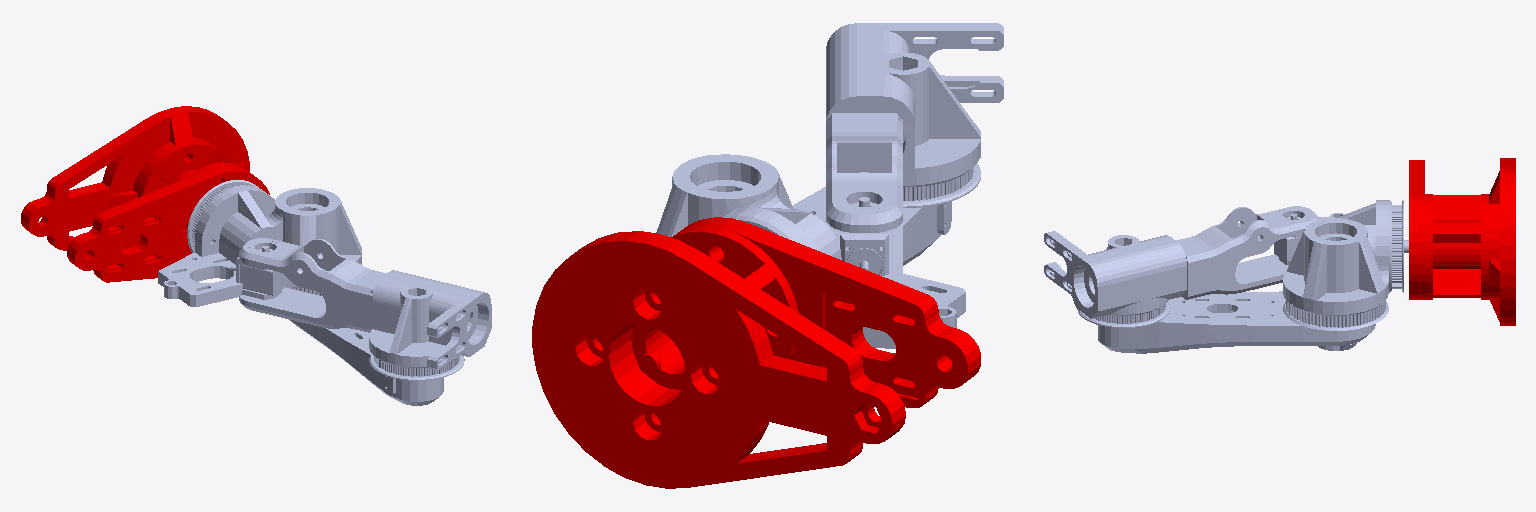
URDF robot description (Final_edited_dont_edit.SLDASM):
<?xml version="1.0" encoding="utf-8"?>
<!-- This URDF was automatically created by SolidWorks to URDF Exporter! Originally created by [author] ([email redacted]) 
     Commit Version: 1.6.0-4-g7f85cfe  Build Version: 1.6.7995.38578
     For more information, please see http://wiki.ros.org/sw_urdf_exporter -->
<robot
  name="Final_edited_dont_edit.SLDASM">
  <link
    name="base_link">
    <inertial>
      <origin
        xyz="0.12761 0.015439 0.043377"
        rpy="0 0 0" />
      <mass
        value="0.37275" />
      <inertia
        ixx="0.00026288"
        ixy="-2.4103E-18"
        ixz="-4.2095E-06"
        iyy="0.0005837"
        iyz="6.4293E-19"
        izz="0.00078149" />
    </inertial>
    <visual>
      <origin
        xyz="0 0 0"
        rpy="0 0 0" />
      <geometry>
        <mesh
          filename="package://Final_edited_dont_edit.SLDASM/meshes/base_link.STL" />
      </geometry>
      <material
        name="">
        <color
          rgba="1 0 0 1" />
      </material>
    </visual>
    <collision>
      <origin
        xyz="0 0 0"
        rpy="0 0 0" />
      <geometry>
        <mesh
          filename="package://Final_edited_dont_edit.SLDASM/meshes/base_link.STL" />
      </geometry>
    </collision>
  </link>
  <link
    name="Link_01">
    <inertial>
      <origin
        xyz="0.00685418798200579 -0.0425536743667052 -0.0109874534741449"
        rpy="0 0 0" />
      <mass
        value="0.235173921605943" />
      <inertia
        ixx="0.000231425952769825"
        ixy="1.12434517306131E-05"
        ixz="9.23442473202213E-05"
        iyy="0.000282260215783849"
        iyz="-2.85969572843724E-05"
        izz="0.000212263544492399" />
    </inertial>
    <visual>
      <origin
        xyz="0 0 0"
        rpy="0 0 0" />
      <geometry>
        <mesh
          filename="package://Final_edited_dont_edit.SLDASM/meshes/Link_01.STL" />
      </geometry>
      <material
        name="">
        <color
          rgba="0.792156862745098 0.819607843137255 0.933333333333333 1" />
      </material>
    </visual>
    <collision>
      <origin
        xyz="0 0 0"
        rpy="0 0 0" />
      <geometry>
        <mesh
          filename="package://Final_edited_dont_edit.SLDASM/meshes/Link_01.STL" />
      </geometry>
    </collision>
  </link>
  <joint
    name="Joint_01"
    type="revolute">
    <origin
      xyz="0.14441 -0.089719 0.015439"
      rpy="0 -0.93212 0" />
    <parent
      link="base_link" />
    <child
      link="Link_01" />
    <axis
      xyz="0 -1 0" />
    <limit
      lower="0"
      upper="0"
      effort="0"
      velocity="0" />
  </joint>
  <link
    name="Link_02">
    <inertial>
      <origin
        xyz="0.0445376044939622 0.025651103901961 -0.00745716099040791"
        rpy="0 0 0" />
      <mass
        value="0.226112329184088" />
      <inertia
        ixx="0.00023642725937196"
        ixy="-0.000273435156590005"
        ixz="8.57751822823757E-06"
        iyy="0.000554691270366958"
        iyz="4.9255318597484E-06"
        izz="0.000771933120265862" />
    </inertial>
    <visual>
      <origin
        xyz="0 0 0"
        rpy="0 0 0" />
      <geometry>
        <mesh
          filename="package://Final_edited_dont_edit.SLDASM/meshes/Link_02.STL" />
      </geometry>
      <material
        name="">
        <color
          rgba="0.792156862745098 0.819607843137255 0.933333333333333 1" />
      </material>
    </visual>
    <collision>
      <origin
        xyz="0 0 0"
        rpy="0 0 0" />
      <geometry>
        <mesh
          filename="package://Final_edited_dont_edit.SLDASM/meshes/Link_02.STL" />
      </geometry>
    </collision>
  </link>
  <joint
    name="Joint_02"
    type="revolute">
    <origin
      xyz="-0.0036585 -0.0553 -0.049423"
      rpy="-0.86205 -0.41309 -1.9023" />
    <parent
      link="Link_01" />
    <child
      link="Link_02" />
    <axis
      xyz="0 0 0" />
    <limit
      lower="0"
      upper="0"
      effort="0"
      velocity="0" />
  </joint>
  <link
    name="Link_03">
    <inertial>
      <origin
        xyz="-0.0157001476087969 -0.00652959983135665 -0.00366986516002255"
        rpy="0 0 0" />
      <mass
        value="0.153983623327453" />
      <inertia
        ixx="0.000107798364829624"
        ixy="-6.25124196729817E-06"
        ixz="-2.81887162934554E-06"
        iyy="8.66123281003905E-05"
        iyz="3.65733522057139E-06"
        izz="7.1059177786828E-05" />
    </inertial>
    <visual>
      <origin
        xyz="0 0 0"
        rpy="0 0 0" />
      <geometry>
        <mesh
          filename="package://Final_edited_dont_edit.SLDASM/meshes/Link_03.STL" />
      </geometry>
      <material
        name="">
        <color
          rgba="0.792156862745098 0.819607843137255 0.933333333333333 1" />
      </material>
    </visual>
    <collision>
      <origin
        xyz="0 0 0"
        rpy="0 0 0" />
      <geometry>
        <mesh
          filename="package://Final_edited_dont_edit.SLDASM/meshes/Link_03.STL" />
      </geometry>
    </collision>
  </link>
  <joint
    name="Joint_03"
    type="revolute">
    <origin
      xyz="0.13856 0.08 0.008"
      rpy="2.0944 1.5708 0" />
    <parent
      link="Link_02" />
    <child
      link="Link_03" />
    <axis
      xyz="0 0 0" />
    <limit
      lower="0"
      upper="0"
      effort="0"
      velocity="0" />
  </joint>
  <link
    name="Link_04">
    <inertial>
      <origin
        xyz="0.00080699581634827 -1.02863991072732E-05 0.0466946320387536"
        rpy="0 0 0" />
      <mass
        value="0.0825085826370024" />
      <inertia
        ixx="8.15490767010422E-05"
        ixy="-1.2049492774394E-08"
        ixz="-9.08558305458314E-07"
        iyy="8.85510222847562E-05"
        iyz="-3.29531680779773E-08"
        izz="2.61859875715252E-05" />
    </inertial>
    <visual>
      <origin
        xyz="0 0 0"
        rpy="0 0 0" />
      <geometry>
        <mesh
          filename="package://Final_edited_dont_edit.SLDASM/meshes/Link_04.STL" />
      </geometry>
      <material
        name="">
        <color
          rgba="0.792156862745098 0.819607843137255 0.933333333333333 1" />
      </material>
    </visual>
    <collision>
      <origin
        xyz="0 0 0"
        rpy="0 0 0" />
      <geometry>
        <mesh
          filename="package://Final_edited_dont_edit.SLDASM/meshes/Link_04.STL" />
      </geometry>
    </collision>
  </link>
  <joint
    name="Joint_04"
    type="revolute">
    <origin
      xyz="-0.02 -0.0175 0.036"
      rpy="0 0 0" />
    <parent
      link="Link_03" />
    <child
      link="Link_04" />
    <axis
      xyz="0 0 0" />
    <limit
      lower="0"
      upper="0"
      effort="0"
      velocity="0" />
  </joint>
  <link
    name="Link_05">
    <inertial>
      <origin
        xyz="0.00652416812718426 -7.0603245472256E-15 5.55111512312578E-17"
        rpy="0 0 0" />
      <mass
        value="0.00609853175779825" />
      <inertia
        ixx="9.77510898024753E-07"
        ixy="-7.17238594150391E-23"
        ixz="-2.8213976170463E-22"
        iyy="6.73164707053672E-07"
        iyz="1.22856432230698E-22"
        izz="1.18099056637471E-06" />
    </inertial>
    <visual>
      <origin
        xyz="0 0 0"
        rpy="0 0 0" />
      <geometry>
        <mesh
          filename="package://Final_edited_dont_edit.SLDASM/meshes/Link_05.STL" />
      </geometry>
      <material
        name="">
        <color
          rgba="0.792156862745098 0.819607843137255 0.933333333333333 1" />
      </material>
    </visual>
    <collision>
      <origin
        xyz="0 0 0"
        rpy="0 0 0" />
      <geometry>
        <mesh
          filename="package://Final_edited_dont_edit.SLDASM/meshes/Link_05.STL" />
      </geometry>
    </collision>
  </link>
  <joint
    name="Joint_05"
    type="revolute">
    <origin
      xyz="0 0 0.1021"
      rpy="1.5708 -1.5708 0" />
    <parent
      link="Link_04" />
    <child
      link="Link_05" />
    <axis
      xyz="0 1 0" />
    <limit
      lower="0"
      upper="0"
      effort="0"
      velocity="0" />
  </joint>
  <link
    name="Link_06">
    <inertial>
      <origin
        xyz="-2.81892564846231E-15 -4.9960036108132E-16 0.00379662753733007"
        rpy="0 0 0" />
      <mass
        value="0.0124015043804959" />
      <inertia
        ixx="1.42512250753839E-06"
        ixy="2.34563057002036E-22"
        ixz="3.26602084952636E-23"
        iyy="1.42512250753839E-06"
        iyz="7.42138858702739E-23"
        izz="8.02373309584243E-07" />
    </inertial>
    <visual>
      <origin
        xyz="0 0 0"
        rpy="0 0 0" />
      <geometry>
        <mesh
          filename="package://Final_edited_dont_edit.SLDASM/meshes/Link_06.STL" />
      </geometry>
      <material
        name="">
        <color
          rgba="0.792156862745098 0.819607843137255 0.933333333333333 1" />
      </material>
    </visual>
    <collision>
      <origin
        xyz="0 0 0"
        rpy="0 0 0" />
      <geometry>
        <mesh
          filename="package://Final_edited_dont_edit.SLDASM/meshes/Link_06.STL" />
      </geometry>
    </collision>
  </link>
  <joint
    name="Joint_06"
    type="revolute">
    <origin
      xyz="0 0 0"
      rpy="-1.5708 0 -1.5708" />
    <parent
      link="Link_05" />
    <child
      link="Link_06" />
    <axis
      xyz="0 0 1" />
    <limit
      lower="0"
      upper="0"
      effort="0"
      velocity="0" />
  </joint>
</robot>

--- What the picture shows (computed from the rendered views, not written in the file) ---
Views: 3 orthographic renders of the robot side by side, from view 1: azimuth 30°, elevation 25°; view 2: azimuth 150°, elevation 25°; view 3: azimuth 270°, elevation 25°.
Model Final_edited_dont_edit.SLDASM with 7 links and 6 joints (6 revolute), rooted at base_link, posed every joint at zero.
Links seen in each view (by area): view 1: base_link, Link_01, Link_03, Link_04, Link_02, Link_06; view 2: base_link, Link_03, Link_01, Link_04, Link_02, Link_05, Link_06; view 3: base_link, Link_02, Link_01, Link_03, Link_04.
Link boxes in pixels (left/top/right/bottom): base_link: left=21, top=106, right=269, bottom=282; Link_01: left=158, top=180, right=361, bottom=306; Link_03: left=369, top=270, right=491, bottom=380; Link_04: left=239, top=238, right=386, bottom=332; Link_02: left=288, top=287, right=443, bottom=405; Link_06: left=231, top=265, right=285, bottom=295; base_link: left=532, top=217, right=980, bottom=488; Link_03: left=826, top=23, right=1003, bottom=207; Link_01: left=656, top=154, right=965, bottom=348; Link_04: left=826, top=113, right=902, bottom=272; Link_02: left=793, top=187, right=951, bottom=265; Link_05: left=840, top=197, right=888, bottom=275; Link_06: left=847, top=247, right=882, bottom=274; base_link: left=1409, top=158, right=1515, bottom=325; Link_02: left=1098, top=291, right=1388, bottom=353; Link_01: left=1283, top=200, right=1408, bottom=313; Link_03: left=1044, top=231, right=1186, bottom=327; Link_04: left=1176, top=206, right=1319, bottom=299.
Size in the robot's own frame: 0.2168 by 0.355 by 0.124 metres.
Meshes: 7 distinct files referenced, 7 mesh visuals loaded (7 binary STL).
